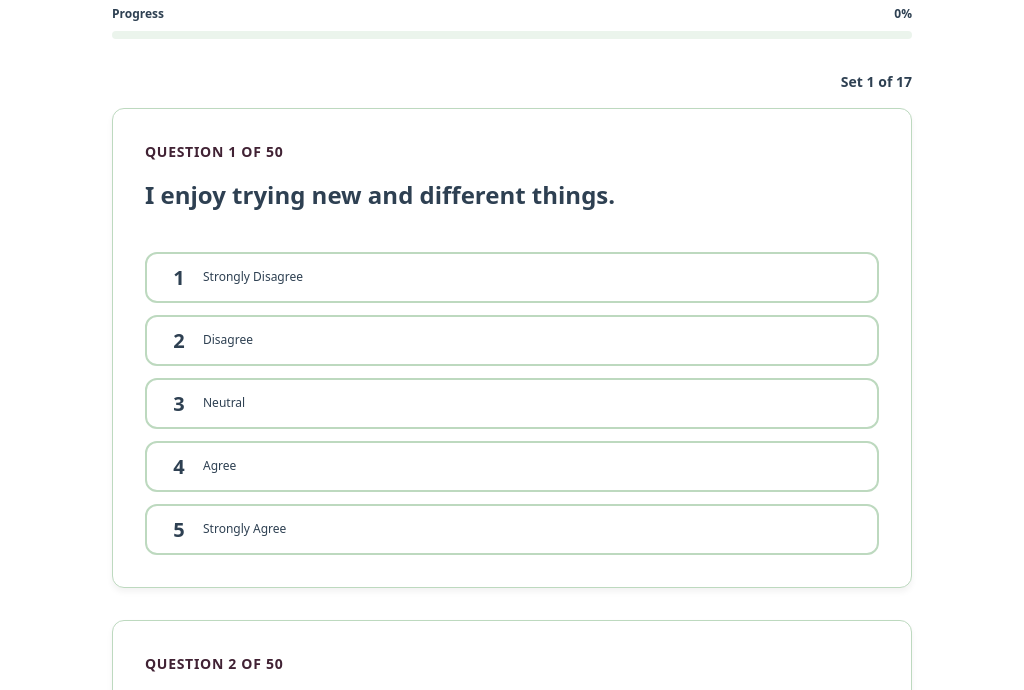
QuestionnairePage Component › advances to the next set when all questions in set are answered
The width and height of the screenshot is (1024, 690).
Click the text "4".
click(179, 466)  # box x1=173 y1=453 x2=185 y2=480
(page scrolled)
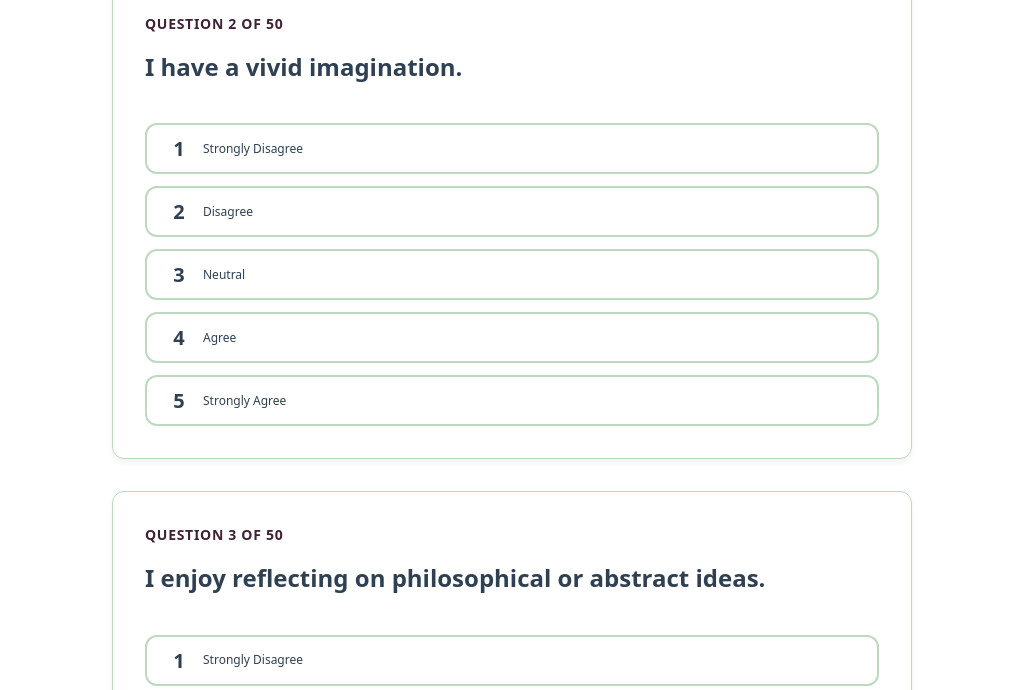
Click the text "4".
click(179, 338)  # box x1=173 y1=324 x2=185 y2=351
(page scrolled)
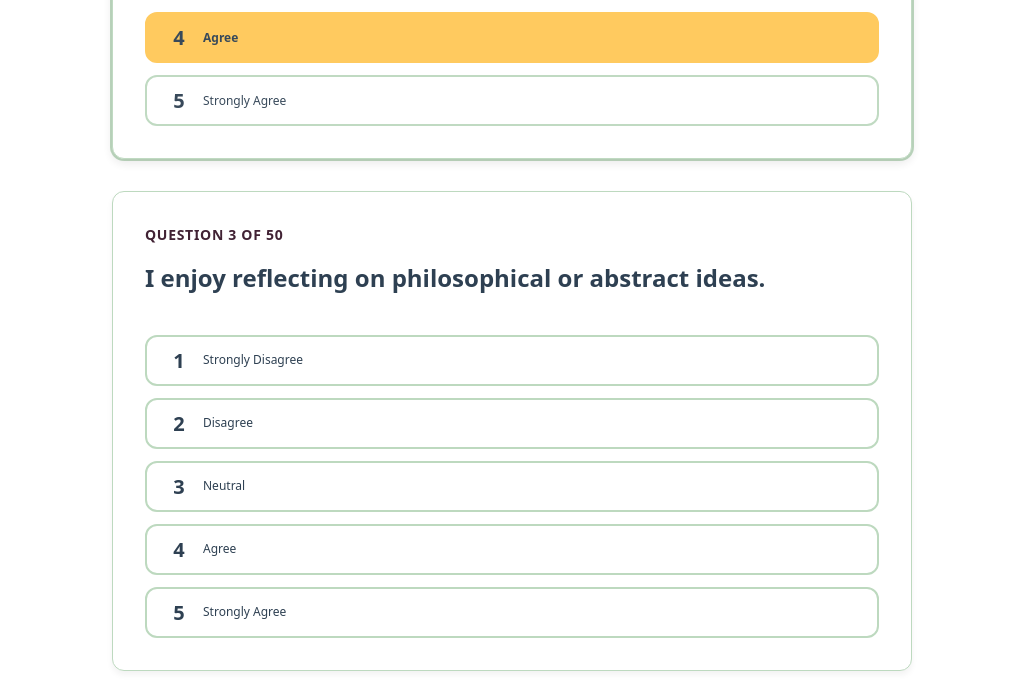
Click the 2nd text "4".
click(179, 549)  # box x1=173 y1=536 x2=185 y2=563
(page scrolled)
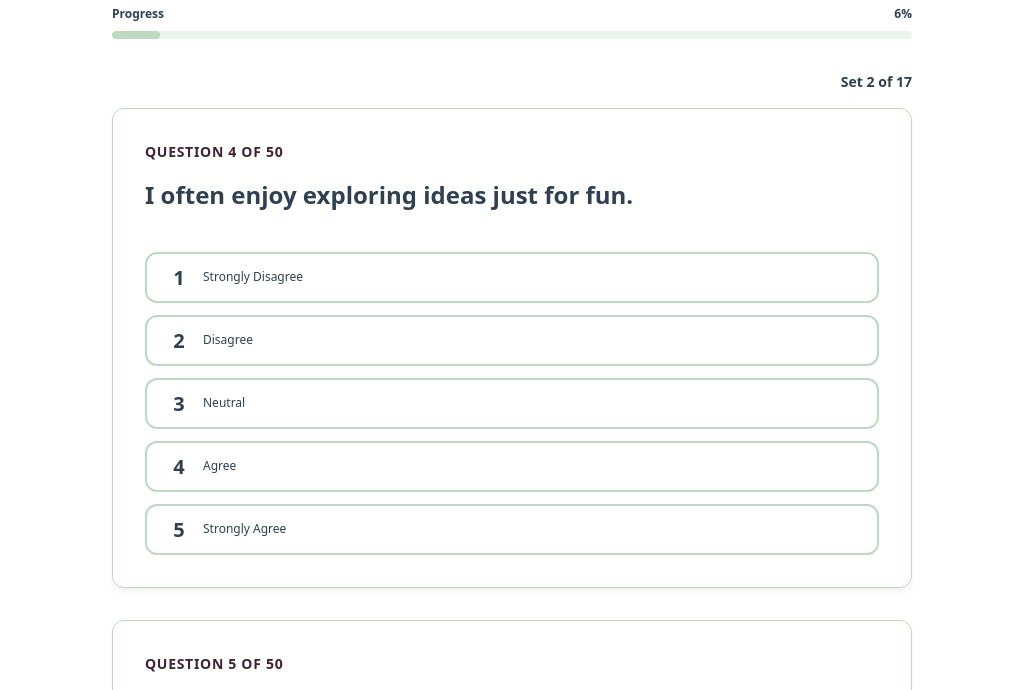
Expected: the text "Question 4 of 50" is shown, x1=145 y1=141 x2=283 y2=162
Expected: the text "Set 2 of 17" is shown, x1=841 y1=72 x2=912 y2=91
